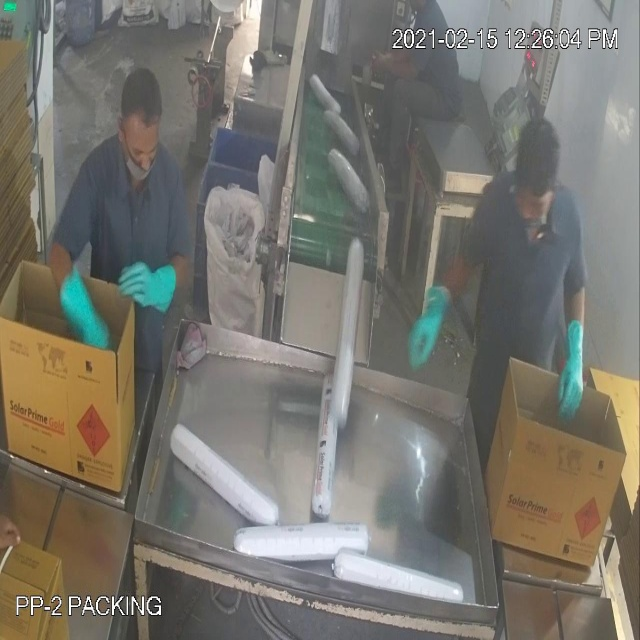Guantes: (110, 244, 186, 334), (398, 268, 454, 375), (546, 313, 590, 425)
Sin_guantes: (363, 44, 423, 97)
